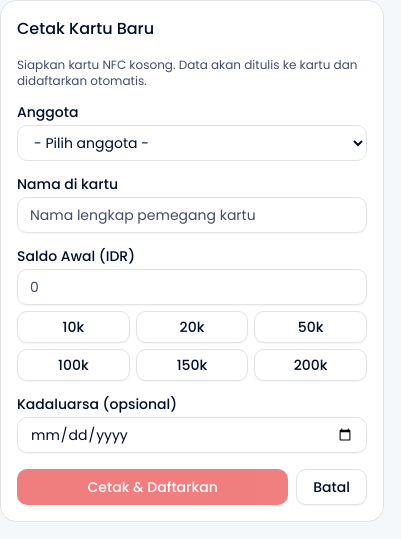
Test: StationCardIssuePanel › sets quick balance when preset button clicked
Click the button "10k" at (73, 327), box [17,311,130,343]
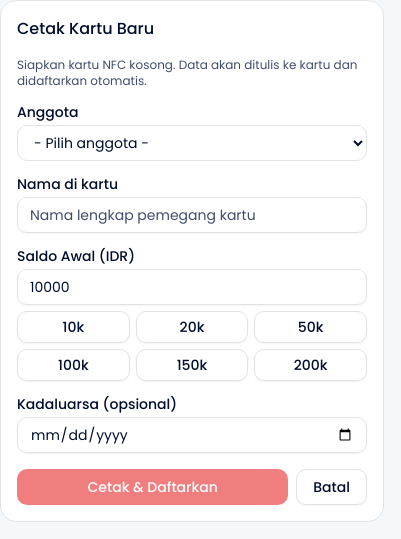
Expected: the number field with placeholder "0" holds "10000", [17,269,367,305]
